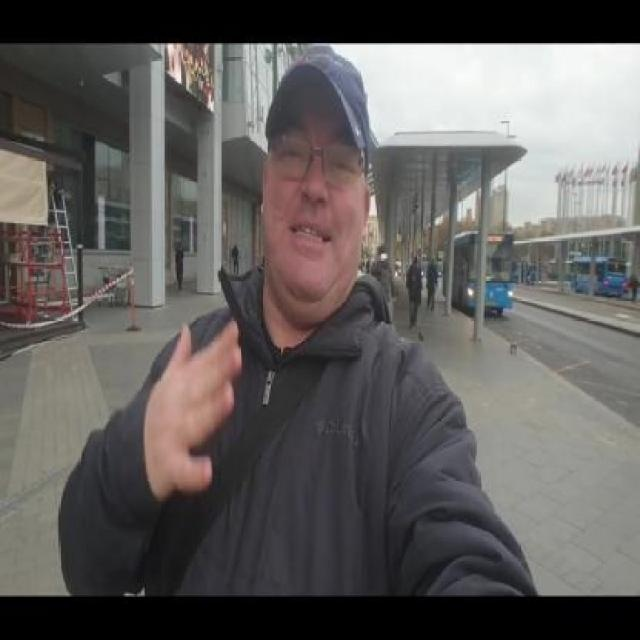Bus: (446, 233, 516, 318), (572, 257, 628, 298)
